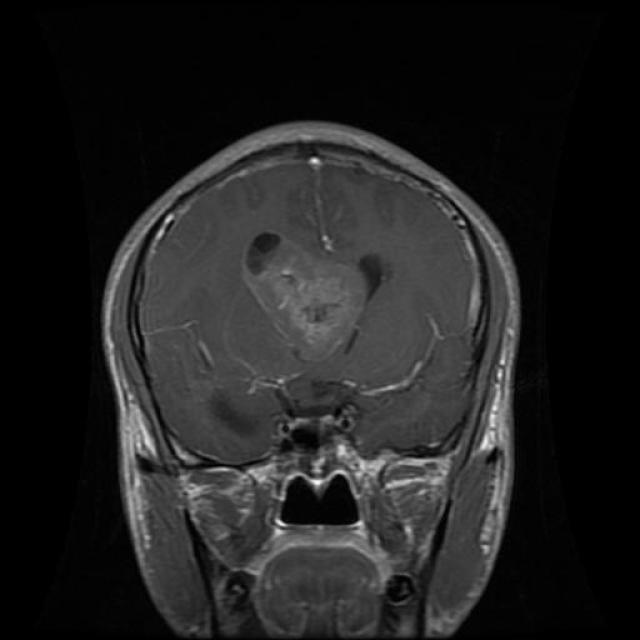glioma: (229, 224, 379, 355)
